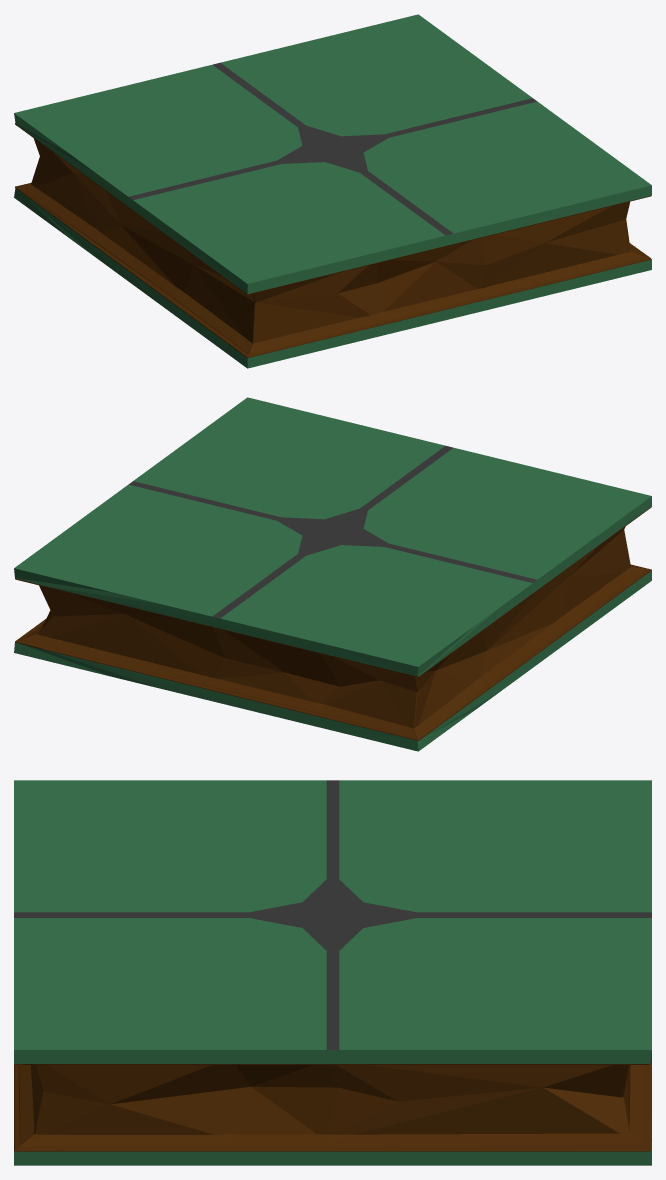
The model's file is GroundTile.fbx.
3 renders of one model, top to bottom at view 1: azimuth 30°, elevation 25°; view 2: azimuth 150°, elevation 25°; view 3: azimuth 270°, elevation 25°, orthographic. The views are drawn at different scales.
Parts seen in each view (by area): view 1: Tile_Center; view 2: Tile_Center; view 3: Tile_Center.
Part boxes in pixels (x1=…): Tile_Center: x1=14, y1=14, x2=651, y2=368; Tile_Center: x1=14, y1=397, x2=651, y2=751; Tile_Center: x1=14, y1=780, x2=651, y2=1165.
Bounding box in the file's own units: 100 × 20 × 100.
